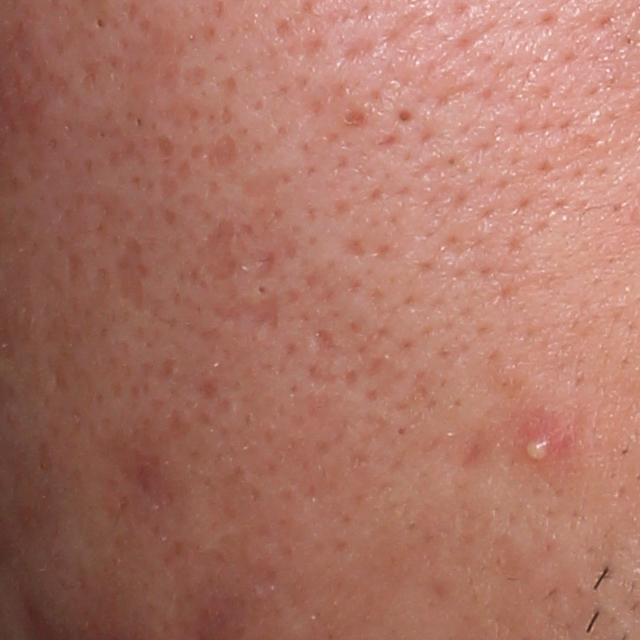atrophic_scar: (179, 222, 279, 347), (102, 435, 178, 539), (115, 240, 149, 312), (311, 328, 345, 384), (237, 245, 285, 283), (205, 130, 241, 177)
comedo: (394, 111, 417, 128), (93, 12, 107, 30)
pustule: (524, 432, 550, 464)
